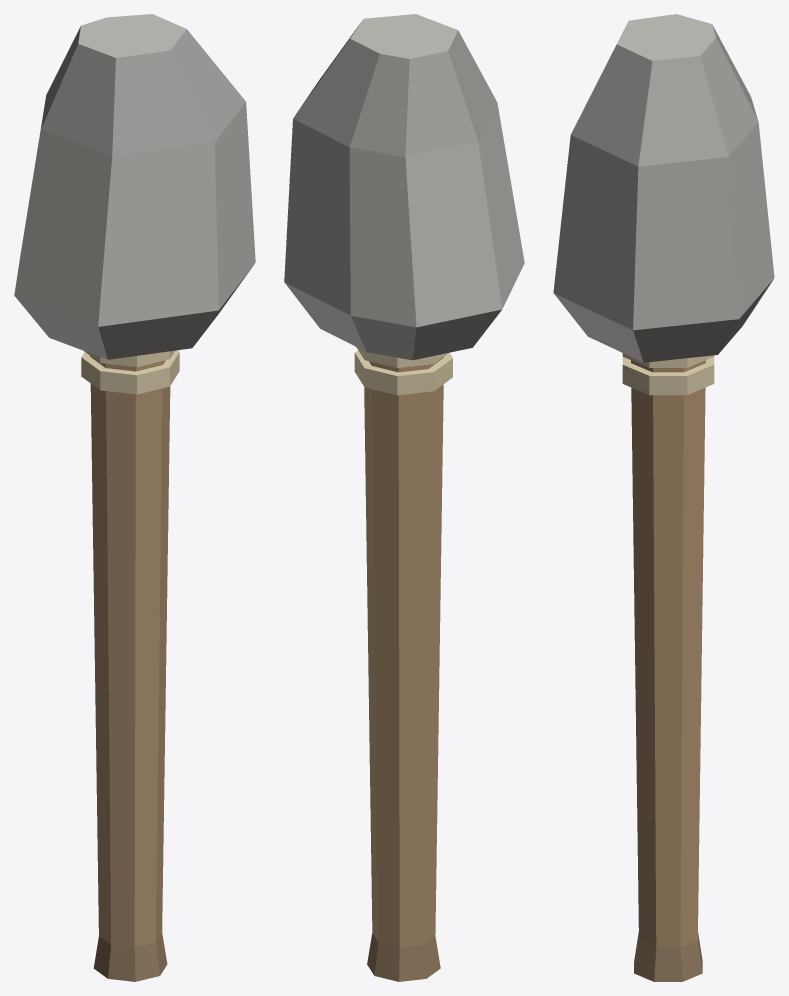
The model's file is stone_club.gltf.
3 renders of one model, left to right at view 1: azimuth 30°, elevation 25°; view 2: azimuth 150°, elevation 25°; view 3: azimuth 270°, elevation 25°, orthographic.
Visible parts, largest first — view 1: stone_club; view 2: stone_club; view 3: stone_club.
Part boxes in pixels (x1,y1,x2,y2): stone_club: [14, 14, 255, 981]; stone_club: [284, 14, 524, 981]; stone_club: [553, 14, 774, 981].
Size of the model in its own units: 0.112 by 0.464 by 0.1.
